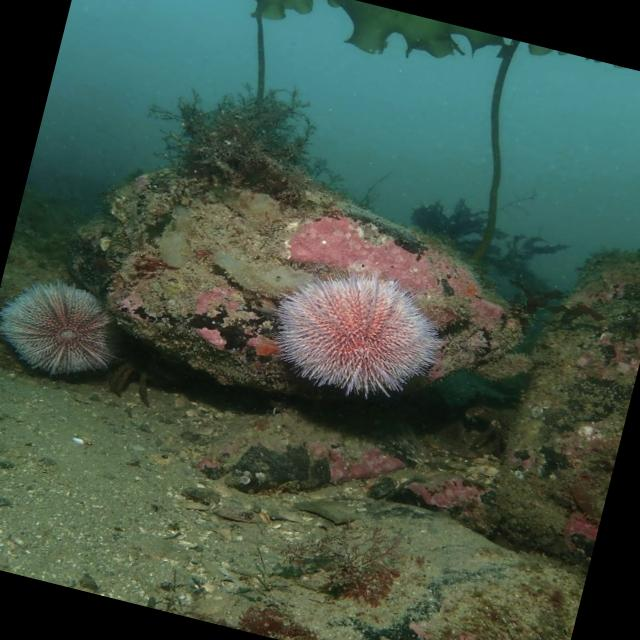Deniz Kestanesi: (256, 248, 457, 413), (0, 264, 132, 389)
